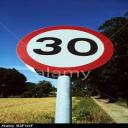speed_limit_30: (15, 22, 116, 76)
